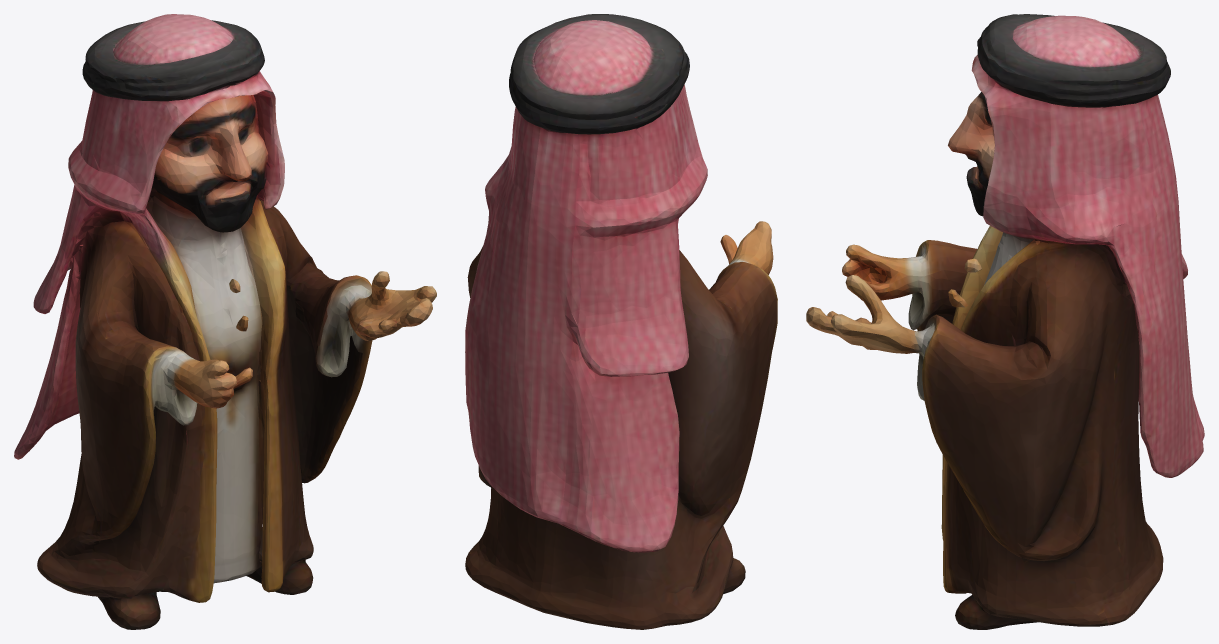
File: sam_w.glb
3 views of the same model, side by side, from view 1: azimuth 30°, elevation 25°; view 2: azimuth 150°, elevation 25°; view 3: azimuth 270°, elevation 25° (orthographic). The views are drawn at different scales.
Parts seen in each view (by area): view 1: geometry_0; view 2: geometry_0; view 3: geometry_0.
Part boxes in pixels (<box>): geometry_0: <box>14,14,436,629</box>; geometry_0: <box>465,14,777,629</box>; geometry_0: <box>806,14,1204,629</box>.
Bounding box in the file's own units: 0.5195 × 0.9997 × 0.6428.
Materials: 1 (1 with a texture image).
